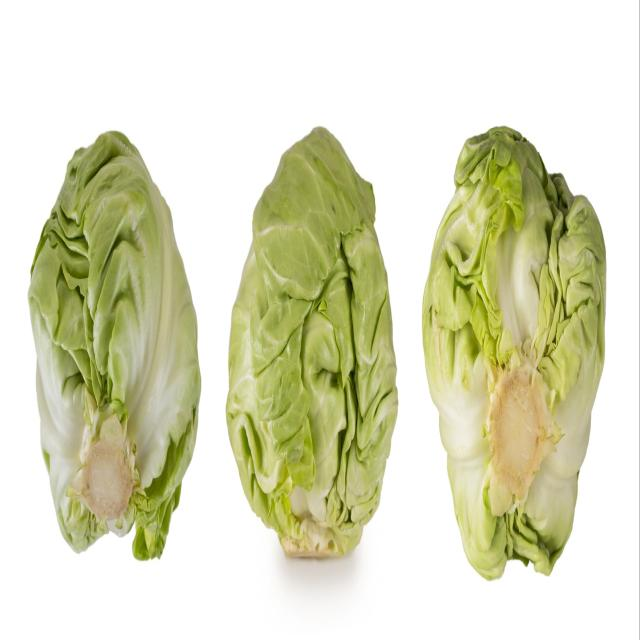cabbage: (420, 121, 609, 587), (222, 121, 400, 561), (26, 127, 202, 566)
